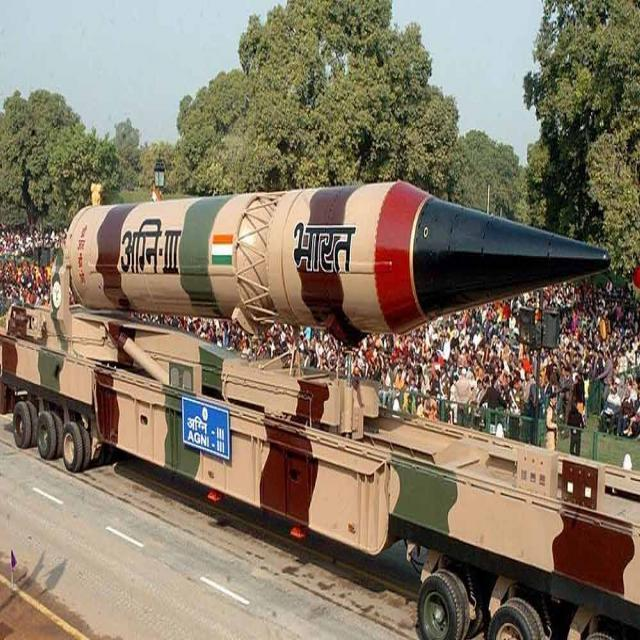Missile: (55, 182, 618, 326)
